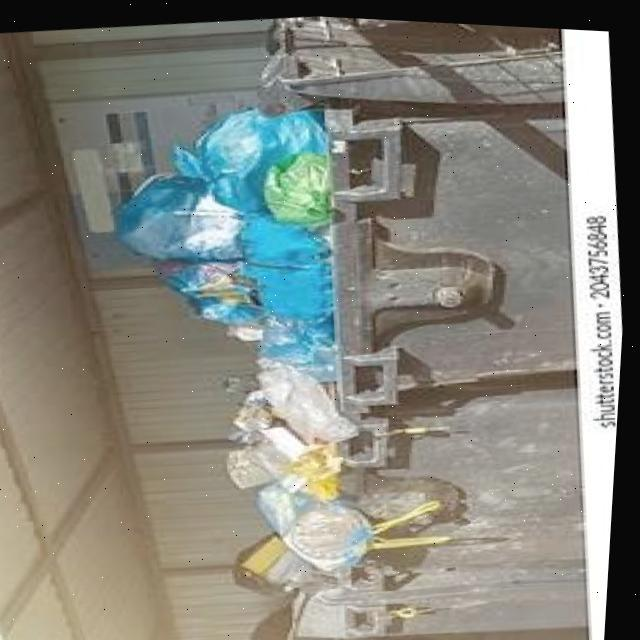Garbage: (117, 104, 456, 589)
Plastic: (232, 386, 286, 440)
Plastic_Bag: (263, 479, 457, 566), (176, 105, 328, 209), (119, 171, 244, 257), (262, 354, 363, 436), (157, 257, 267, 321), (232, 421, 315, 488), (245, 258, 337, 314), (262, 311, 339, 376), (265, 148, 332, 222), (241, 209, 332, 262), (290, 439, 346, 496), (230, 321, 268, 337)
